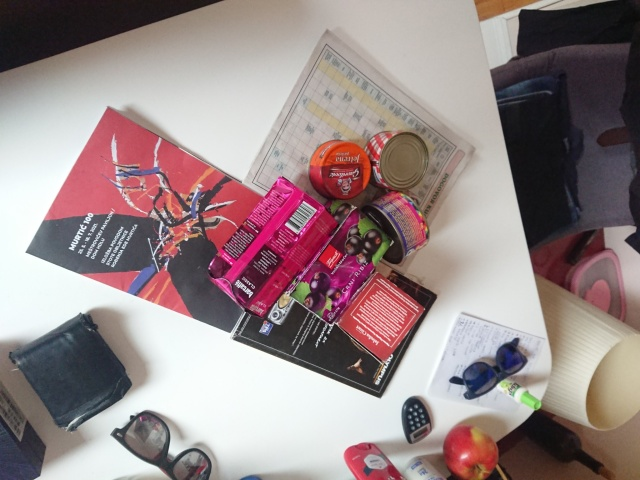Barcaffe Classic Original 225g: (205, 173, 341, 321)
Franck Apple Cinnamon Tea 60g: (331, 269, 428, 368)
Franck Black Currant Tea 60g: (270, 194, 398, 328)
Gavrilovic Pork Liver Pate 100g: (307, 138, 373, 202)
Giana Tuna Salad Mexico 185g: (359, 189, 433, 267)
Podravka Luncheon Meat 150g: (358, 127, 432, 192)
